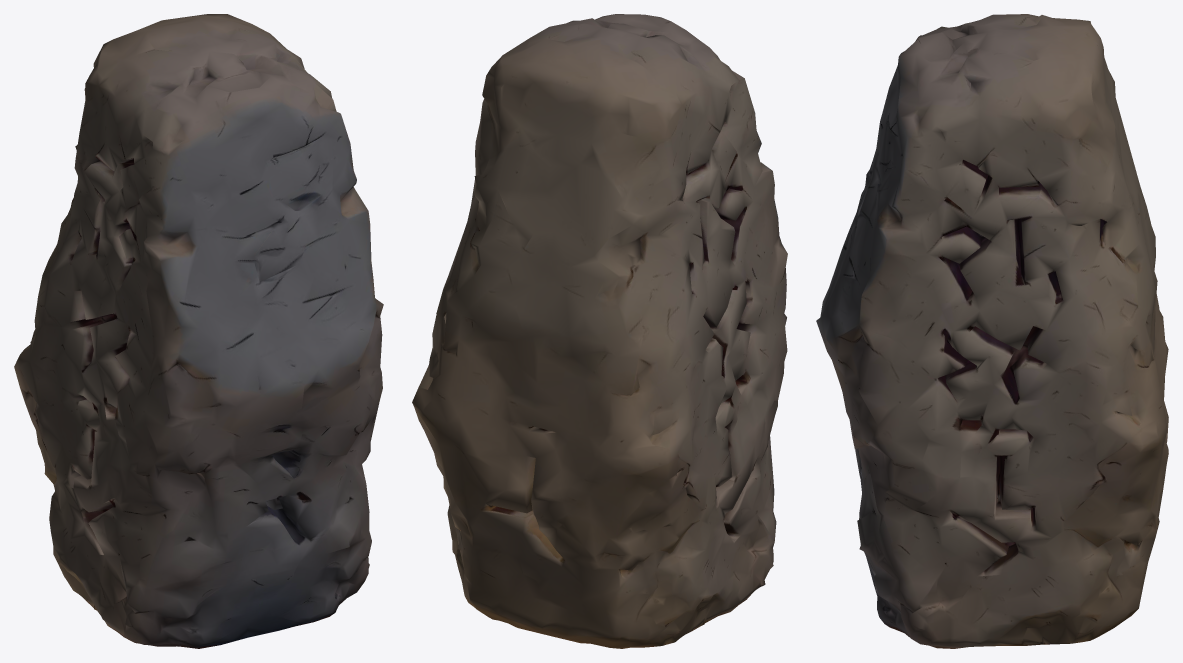
Rendered from standing_stone.glb.
The picture shows the model from 3 angles, left to right: view 1: azimuth 30°, elevation 25°; view 2: azimuth 150°, elevation 25°; view 3: azimuth 270°, elevation 25°; orthographic projection. The views are drawn at different scales.
Parts seen in each view (by area): view 1: tripo_node_2838eed8-f9ad-4716-b613-5e72ed56080a; view 2: tripo_node_2838eed8-f9ad-4716-b613-5e72ed56080a; view 3: tripo_node_2838eed8-f9ad-4716-b613-5e72ed56080a.
Part boxes in pixels (x1,y1,x2,y2): tripo_node_2838eed8-f9ad-4716-b613-5e72ed56080a: [14, 14, 383, 648]; tripo_node_2838eed8-f9ad-4716-b613-5e72ed56080a: [412, 14, 787, 648]; tripo_node_2838eed8-f9ad-4716-b613-5e72ed56080a: [816, 14, 1168, 648].
Bounding box in the file's own units: 0.4883 × 1 × 0.5683.
Materials: 1 (1 with a texture image).
